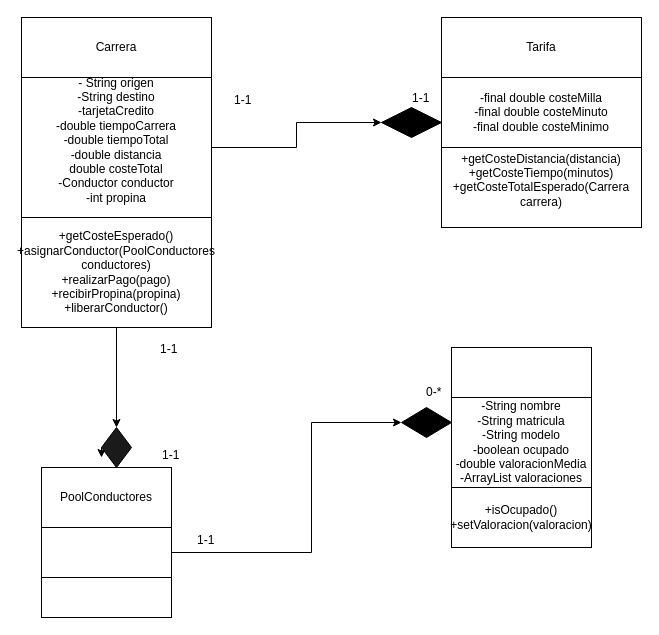
The diagram is 659 pixels wide and 635 high, and some of its shapes have lost their labels. The centre of each missing label's shape, as x and y in pixels:
+asignarConductor: the point at 106,597
-ArrayList<Conductor> conductores: the point at 106,552
Conductor: the point at 521,372
